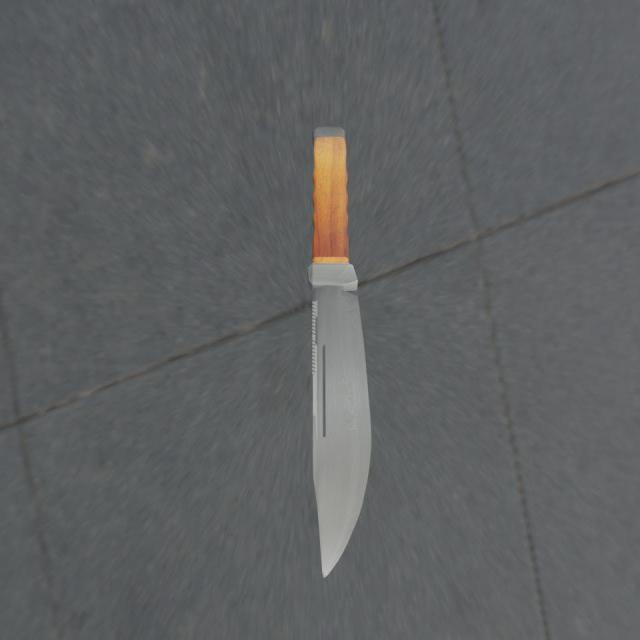knife: (308, 116, 353, 290)
